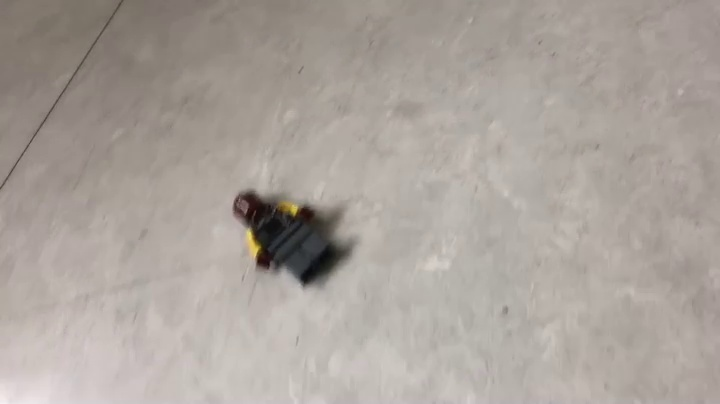people: (231, 189, 342, 289)
